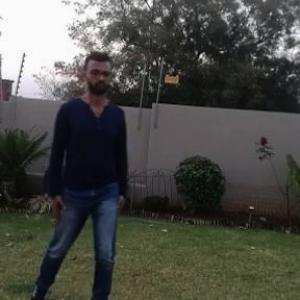follow: (53, 52, 136, 299)
